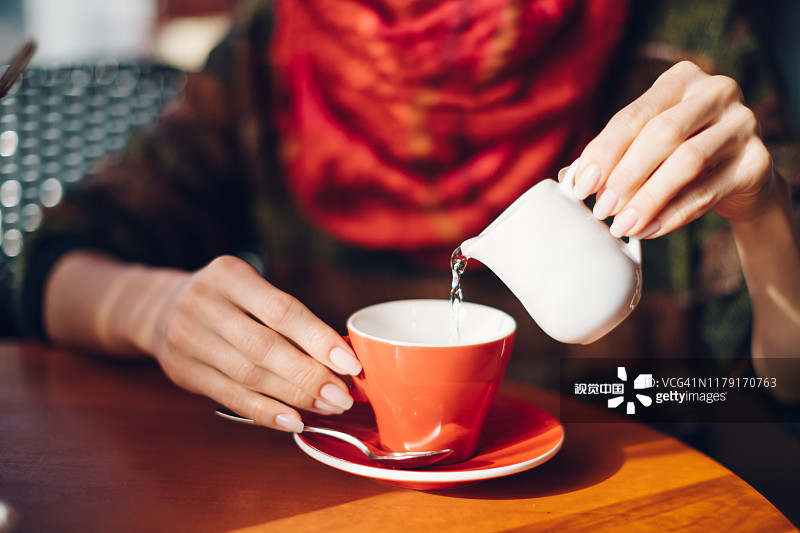no-phone: (545, 33, 783, 267), (136, 238, 376, 443)
